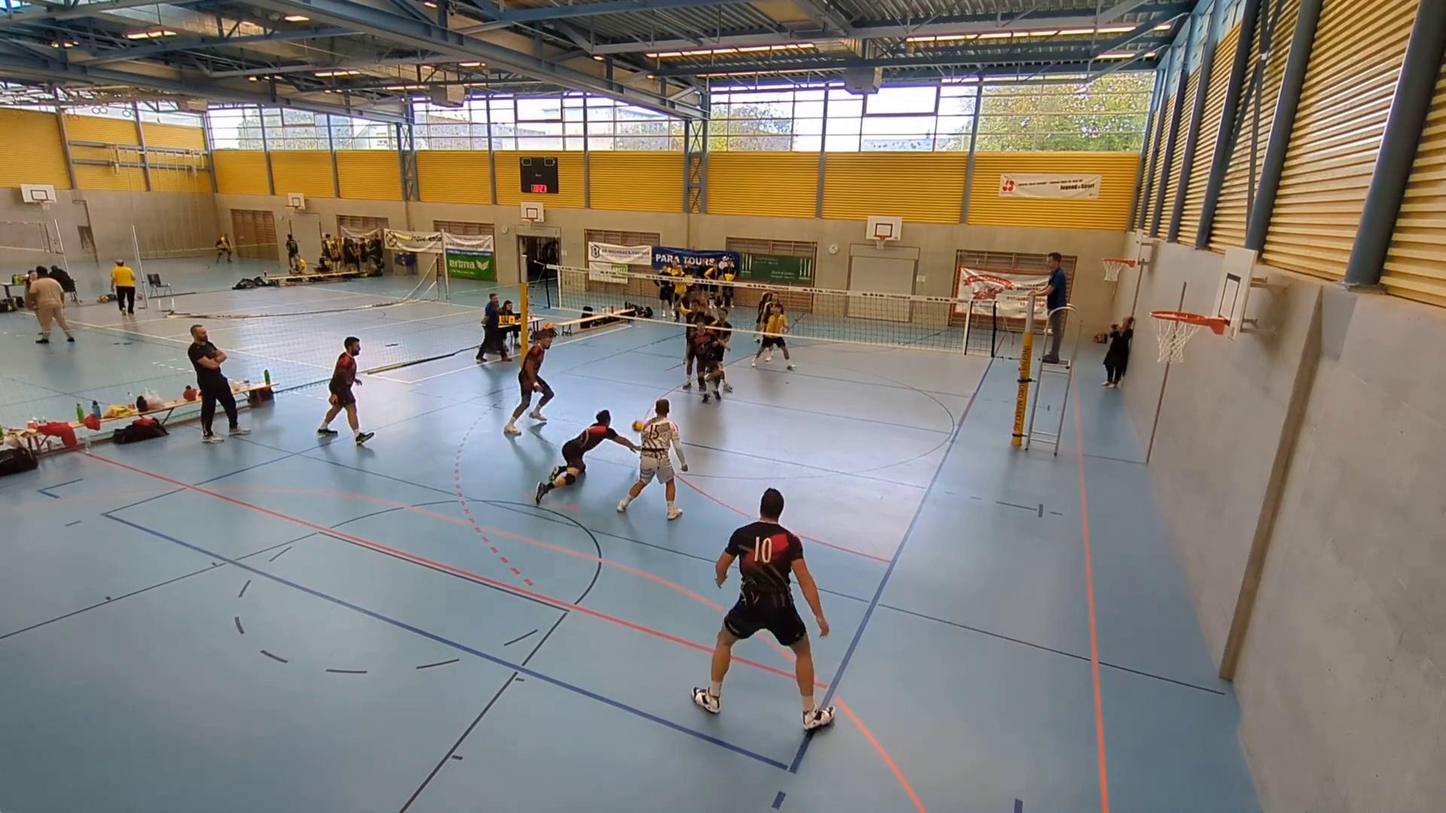Dig: (529, 408, 644, 506)
Player: (693, 488, 834, 728), (617, 397, 688, 519), (317, 336, 374, 443), (505, 327, 554, 434), (679, 306, 710, 399), (699, 311, 731, 400), (752, 303, 794, 370), (752, 288, 773, 352)
